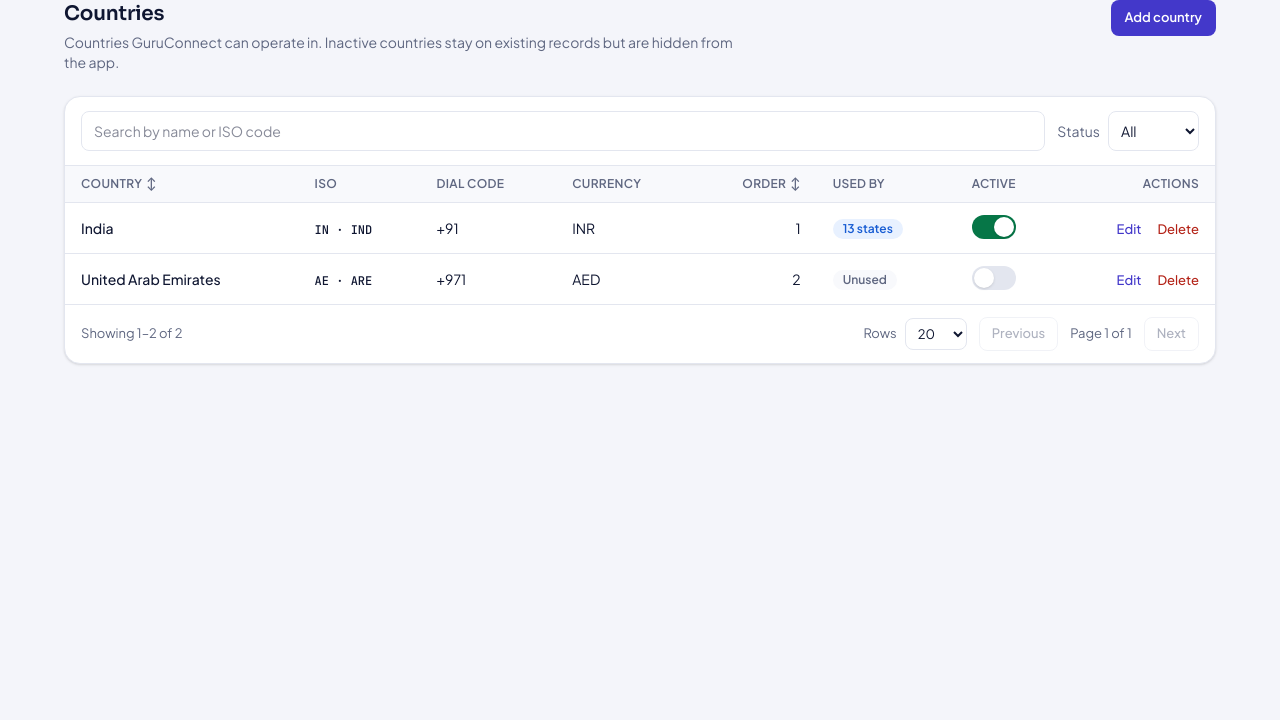
Test: MasterListPage — create and edit › opens the drawer to add a country, then confirms and refreshes the list
The image size is (1280, 720).
Check: the text "India" is shown, box [81,219,114,237]
Click the button "Add country" at (1163, 18), box [1111,0,1216,36]
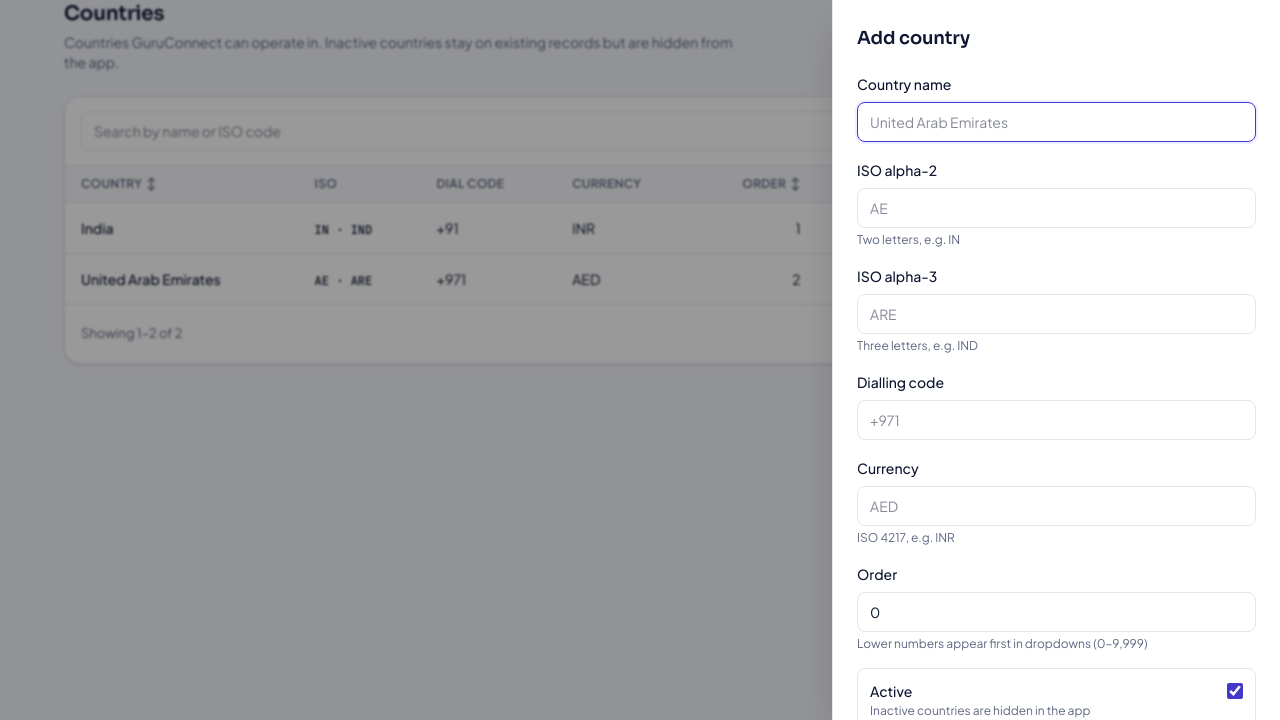
Type "Nepal" into the field labelled "Country name" at (1056, 122), box [857,102,1256,142]
Type "np" into the field labelled "ISO alpha-2" at (1056, 208), box [857,188,1256,228]
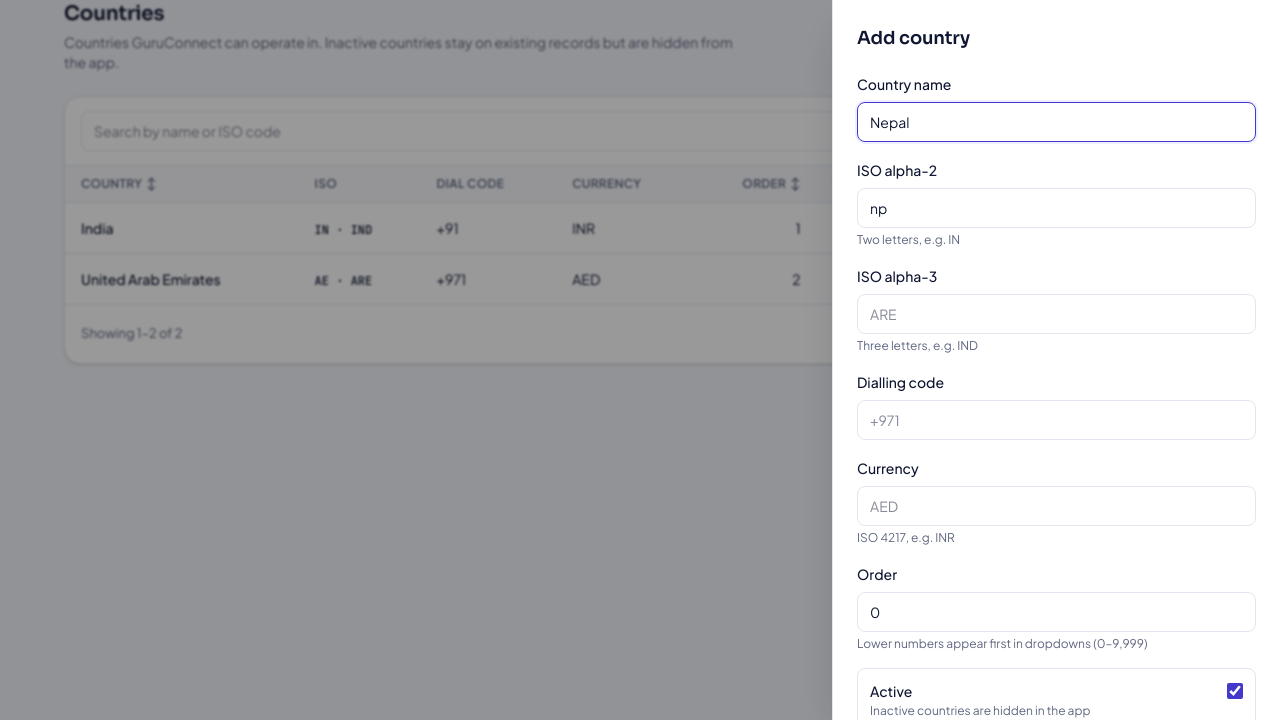
Type "npl" into the field labelled "ISO alpha-3" at (1056, 314), box [857,294,1256,334]
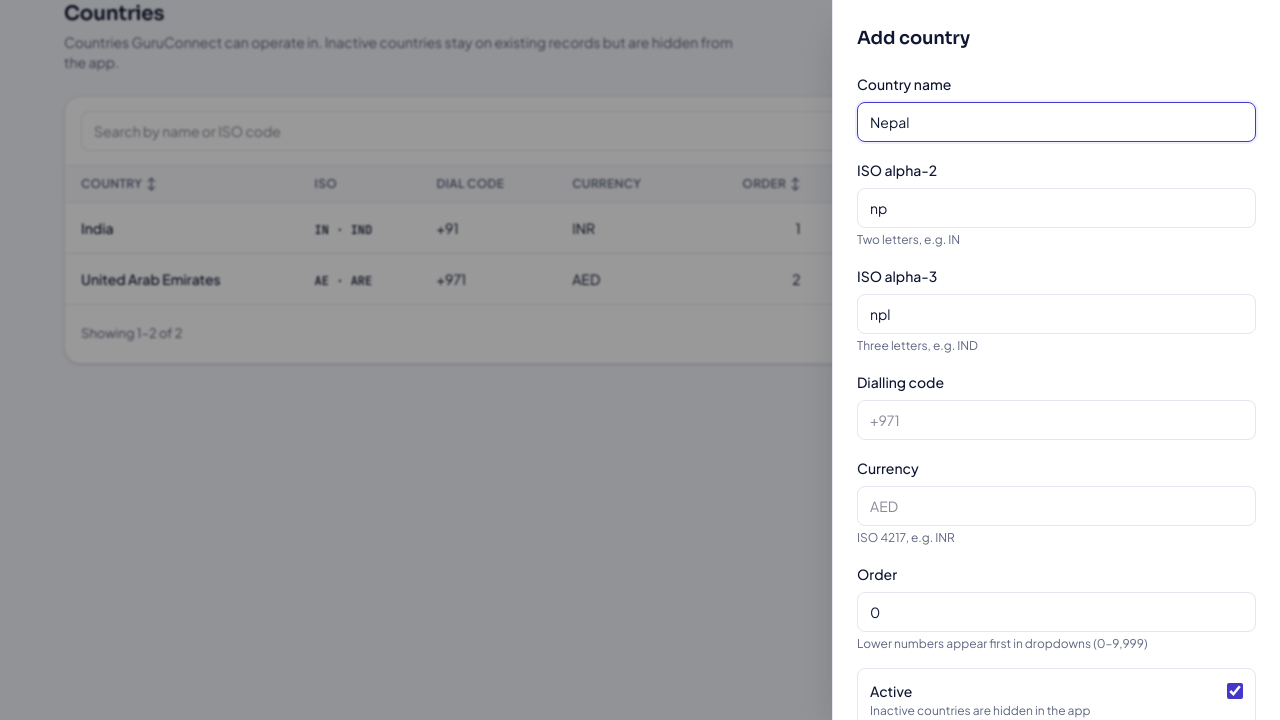
Type "+977" into the field labelled "Dialling code" at (1056, 420), box [857,400,1256,440]
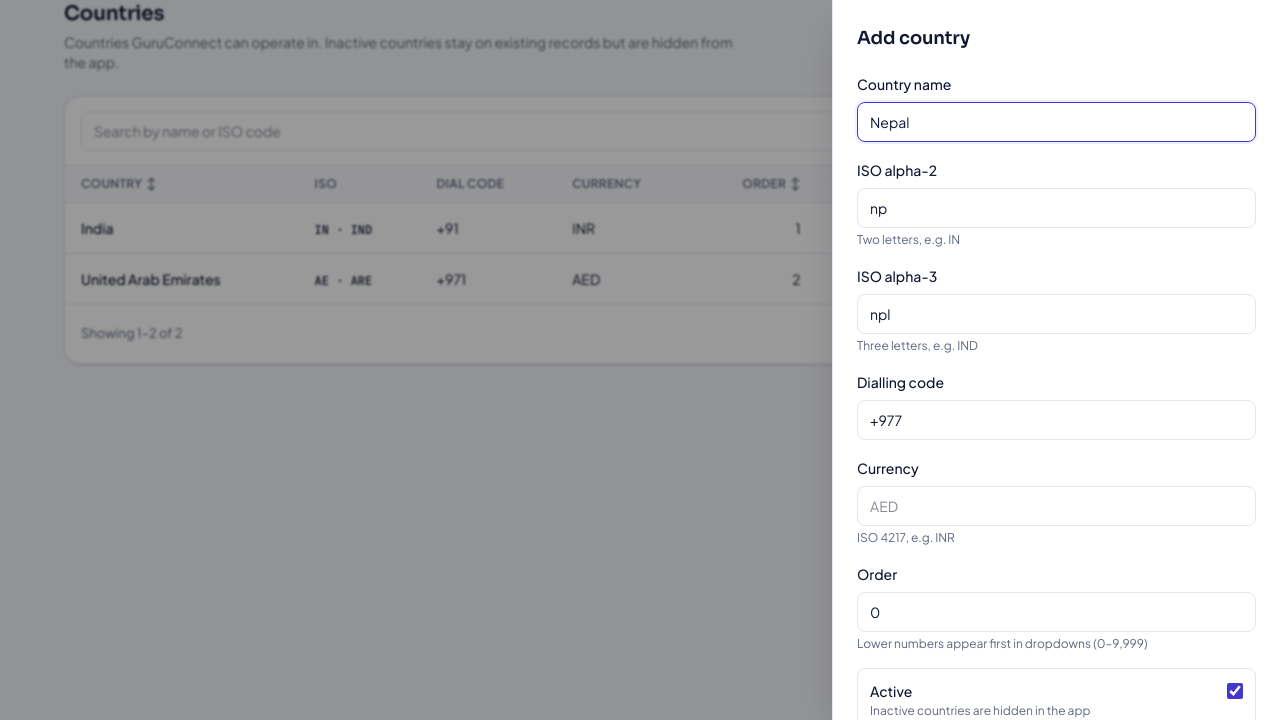
Type "npr" into the field labelled "Currency" at (1056, 506), box [857,486,1256,526]
(page scrolled)
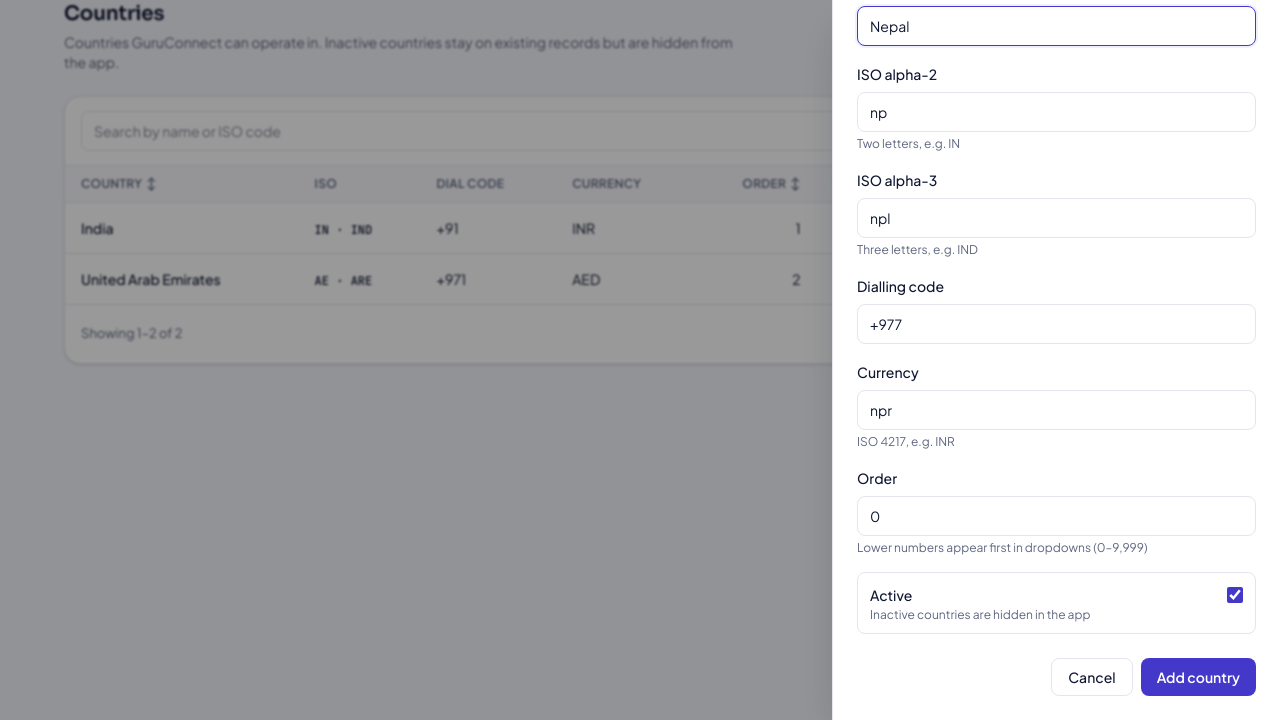
Click the button "Add country" at (1198, 677), box [1141,658,1256,696]
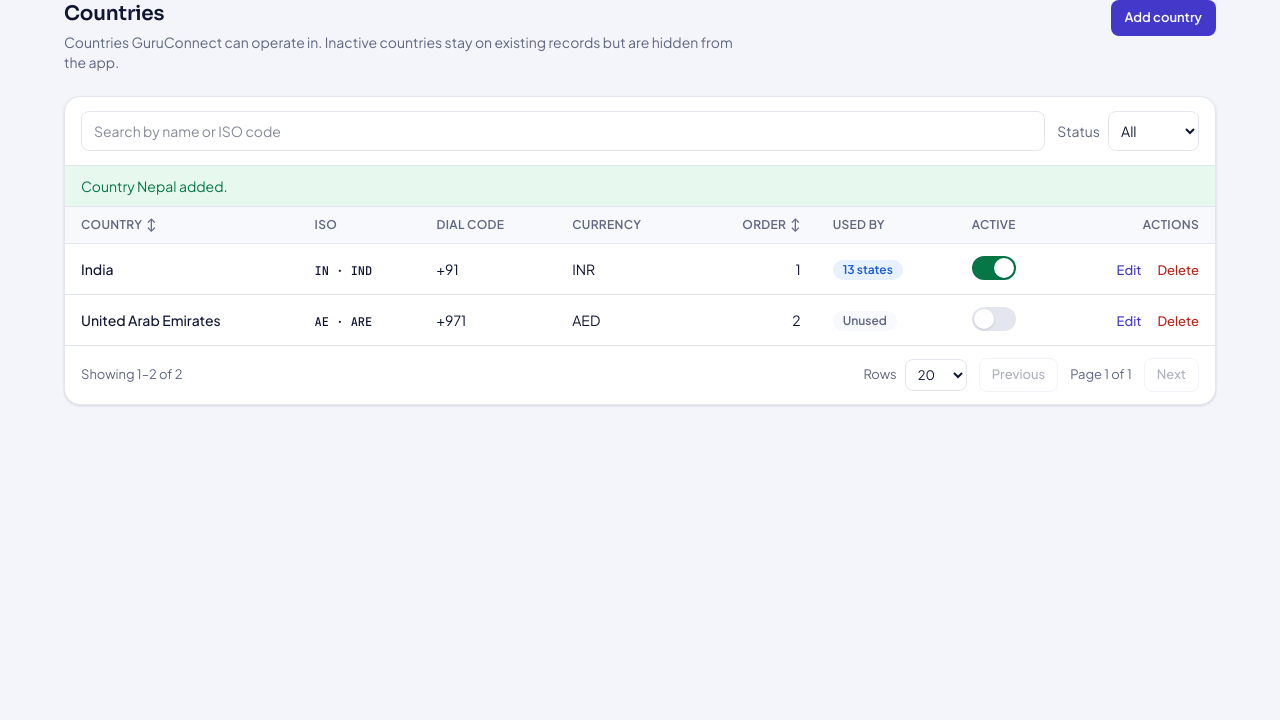
Check: the message reads "Country Nepal added.", box [81,177,228,195]
Check: the dialog is gone
